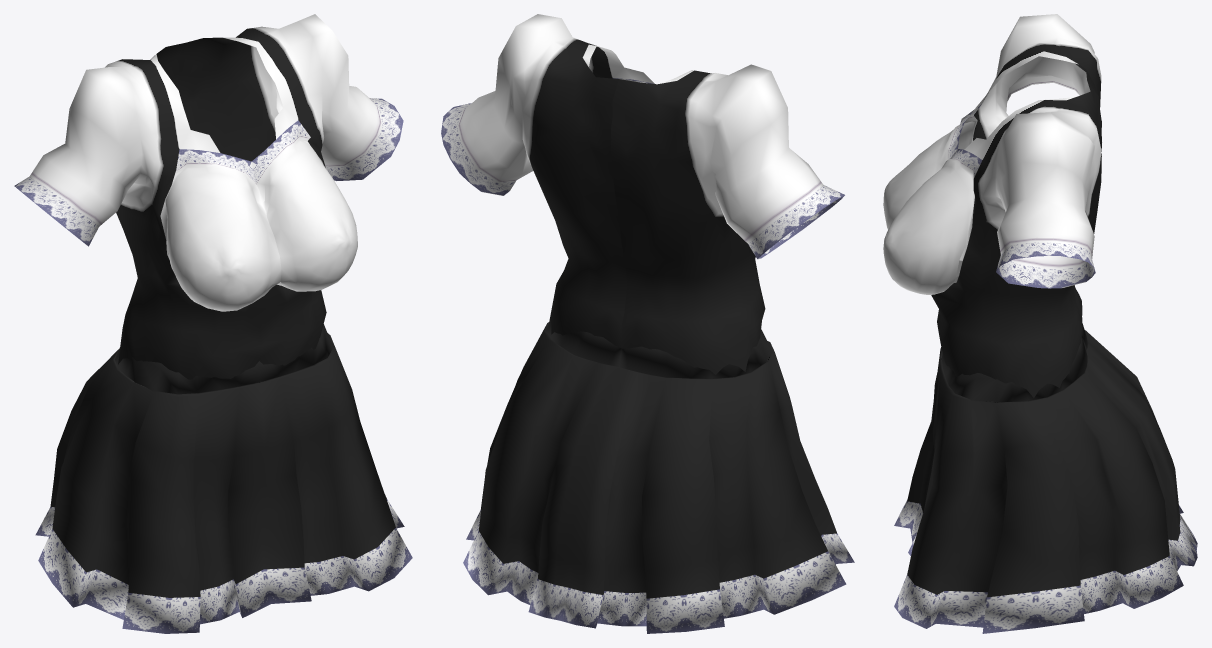
The model's file is Maid Top 1.fbx.
3 renders of one model, left to right at view 1: azimuth 30°, elevation 25°; view 2: azimuth 150°, elevation 25°; view 3: azimuth 270°, elevation 25°, orthographic. The views are drawn at different scales.
Parts seen in each view (by area): view 1: Maid Top 1 _mesh; view 2: Maid Top 1 _mesh; view 3: Maid Top 1 _mesh.
Boxes of the visible parts, x1,y1,x2,y2 form: Maid Top 1 _mesh: (14, 14, 412, 633); Maid Top 1 _mesh: (441, 14, 854, 633); Maid Top 1 _mesh: (883, 14, 1197, 633).
Size of the model in its own units: 50.62 by 67.3 by 38.23.
2 materials, 2 textured.
